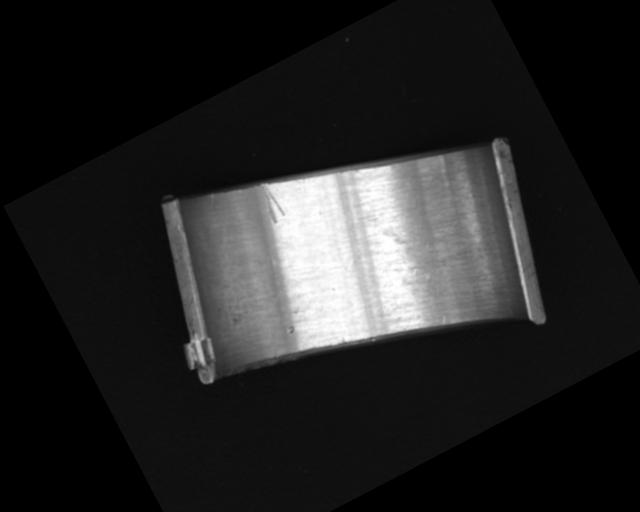bruise: (284, 323, 297, 337)
nick: (253, 179, 289, 225), (205, 191, 218, 206)
